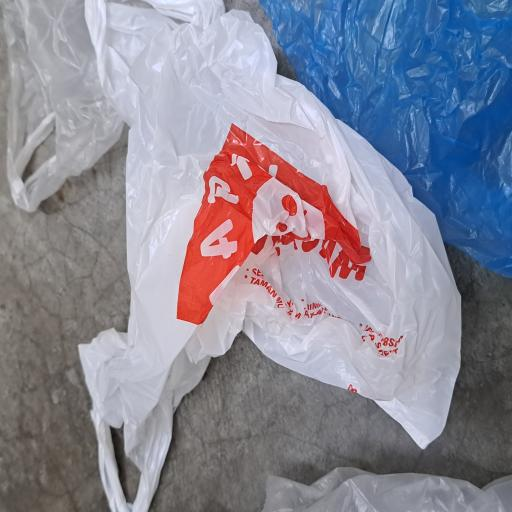plastic bag: (0, 98, 384, 512), (0, 338, 37, 512)
